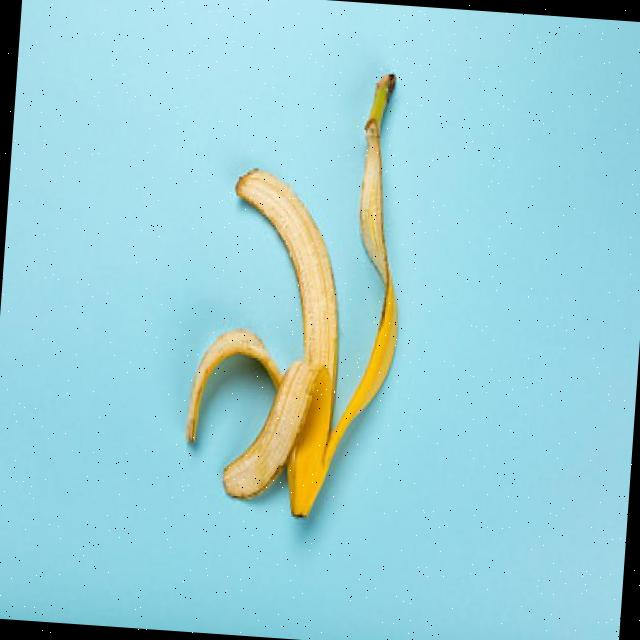banana-peel: (178, 161, 352, 515)
